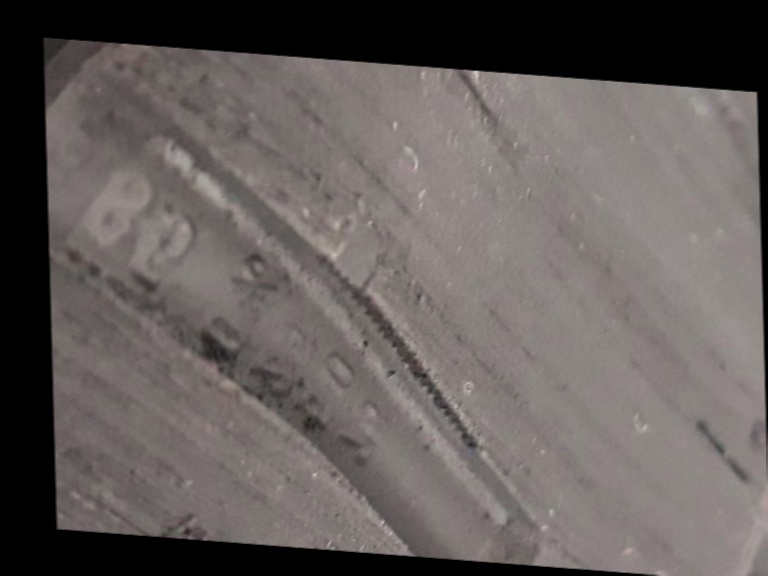temoin:0: (311, 215, 398, 321)
